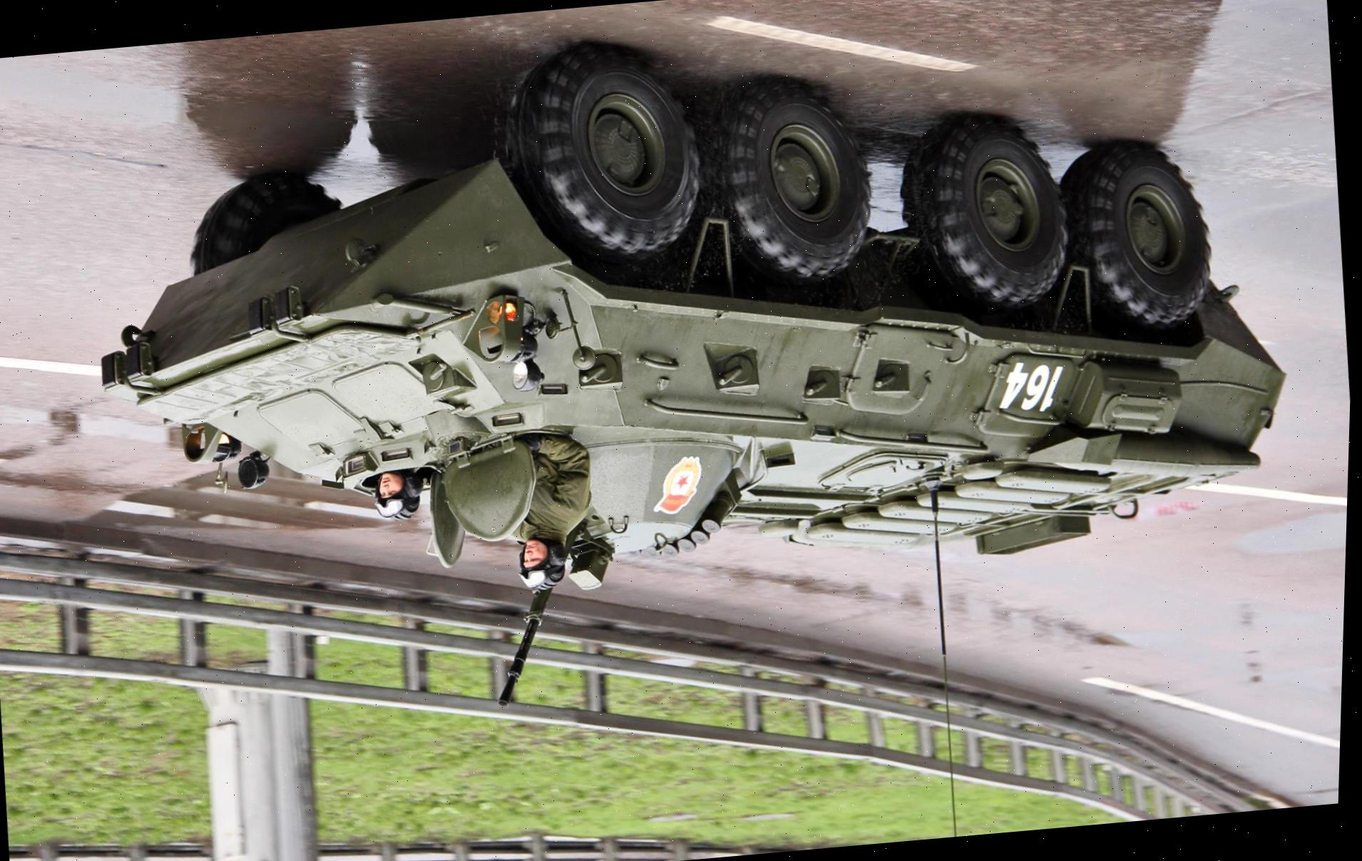tank: (38, 0, 1323, 761)
